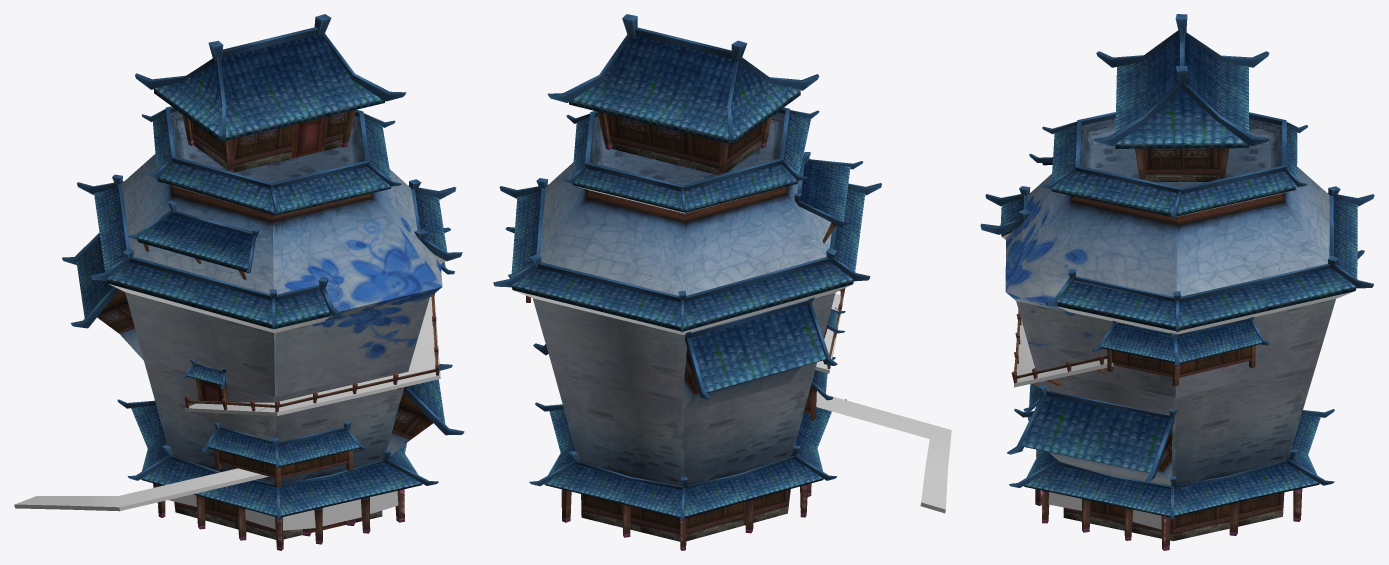
File: environment_building_qinghuacifangwu_02_a.FBX
3 views of the same model, side by side, from view 1: azimuth 30°, elevation 25°; view 2: azimuth 150°, elevation 25°; view 3: azimuth 270°, elevation 25° (orthographic). The views are drawn at different scales.
Visible parts, largest first — view 1: environment_building_qinghuacifangwu_02_b7, environment_building_qinghuacifangwu_02_b4, environment_building_qinghuacifangwu_02_b6, environment_building_qinghuacifangwu_02_b0, environment_building_qinghuacifangwu_02_b2, environment_building_qinghuacifangwu_02_a0, environment_building_qinghuacifangwu_02_b1, environment_building_qinghuacifangwu_02_d0, environment_building_qinghuacifangwu_02_b5, environment_building_qinghuacifangwu_02_a1, environment_building_qinghuacifangwu_02_c0, environment_building_qinghuacifangwu_02_a4 (+9 smaller); view 2: environment_building_qinghuacifangwu_02_b6, environment_building_qinghuacifangwu_02_b2, environment_building_qinghuacifangwu_02_b0, environment_building_qinghuacifangwu_02_b4, environment_building_qinghuacifangwu_02_a0, environment_building_qinghuacifangwu_02_b1, environment_building_qinghuacifangwu_02_a1, environment_building_qinghuacifangwu_02_b13, environment_building_qinghuacifangwu_02_c0, environment_building_qinghuacifangwu_02_a4, environment_building_qinghuacifangwu_02_b9, environment_building_qinghuacifangwu_02_b3 (+3 smaller); view 3: environment_building_qinghuacifangwu_02_b7, environment_building_qinghuacifangwu_02_b6, environment_building_qinghuacifangwu_02_b2, environment_building_qinghuacifangwu_02_b0, environment_building_qinghuacifangwu_02_b4, environment_building_qinghuacifangwu_02_a0, environment_building_qinghuacifangwu_02_b1, environment_building_qinghuacifangwu_02_f0, environment_building_qinghuacifangwu_02_b13, environment_building_qinghuacifangwu_02_a4, environment_building_qinghuacifangwu_02_a1, environment_building_qinghuacifangwu_02_f2 (+9 smaller).
Part boxes in pixels (x1,y1,x2,y2): environment_building_qinghuacifangwu_02_b7: (273,169,442,396); environment_building_qinghuacifangwu_02_b4: (76,213,445,517); environment_building_qinghuacifangwu_02_b6: (122,154,274,396); environment_building_qinghuacifangwu_02_b0: (94,113,447,328); environment_building_qinghuacifangwu_02_b2: (144,111,409,483); environment_building_qinghuacifangwu_02_a0: (154,34,384,141); environment_building_qinghuacifangwu_02_b1: (62,106,464,519); environment_building_qinghuacifangwu_02_d0: (184,294,440,415); environment_building_qinghuacifangwu_02_b5: (97,289,433,478); environment_building_qinghuacifangwu_02_a1: (190,112,347,172); environment_building_qinghuacifangwu_02_c0: (14,468,268,511); environment_building_qinghuacifangwu_02_a4: (135,14,406,139); environment_building_qinghuacifangwu_02_b6: (533,153,835,398); environment_building_qinghuacifangwu_02_b2: (552,112,817,486); environment_building_qinghuacifangwu_02_b0: (511,113,865,393); environment_building_qinghuacifangwu_02_b4: (544,163,850,518); environment_building_qinghuacifangwu_02_a0: (569,35,800,144); environment_building_qinghuacifangwu_02_b1: (493,107,881,520); environment_building_qinghuacifangwu_02_a1: (606,113,764,175); environment_building_qinghuacifangwu_02_b13: (581,489,790,541); environment_building_qinghuacifangwu_02_c0: (816,392,951,513); environment_building_qinghuacifangwu_02_a4: (547,14,819,142); environment_building_qinghuacifangwu_02_b9: (683,367,800,411); environment_building_qinghuacifangwu_02_b3: (514,186,852,334); environment_building_qinghuacifangwu_02_b7: (1005,174,1177,397); environment_building_qinghuacifangwu_02_b6: (1175,166,1335,397); environment_building_qinghuacifangwu_02_b2: (1035,118,1315,484); environment_building_qinghuacifangwu_02_b0: (1000,125,1357,472); environment_building_qinghuacifangwu_02_b4: (1022,157,1320,517); environment_building_qinghuacifangwu_02_a0: (1115,34,1248,148); environment_building_qinghuacifangwu_02_b1: (980,112,1374,519); environment_building_qinghuacifangwu_02_f0: (1100,321,1262,364); environment_building_qinghuacifangwu_02_b13: (1063,492,1284,541); environment_building_qinghuacifangwu_02_a4: (1094,14,1269,146); environment_building_qinghuacifangwu_02_a1: (1144,148,1220,181); environment_building_qinghuacifangwu_02_f2: (1111,346,1250,377).
Size of the model in its own units: 363 by 358 by 284.
